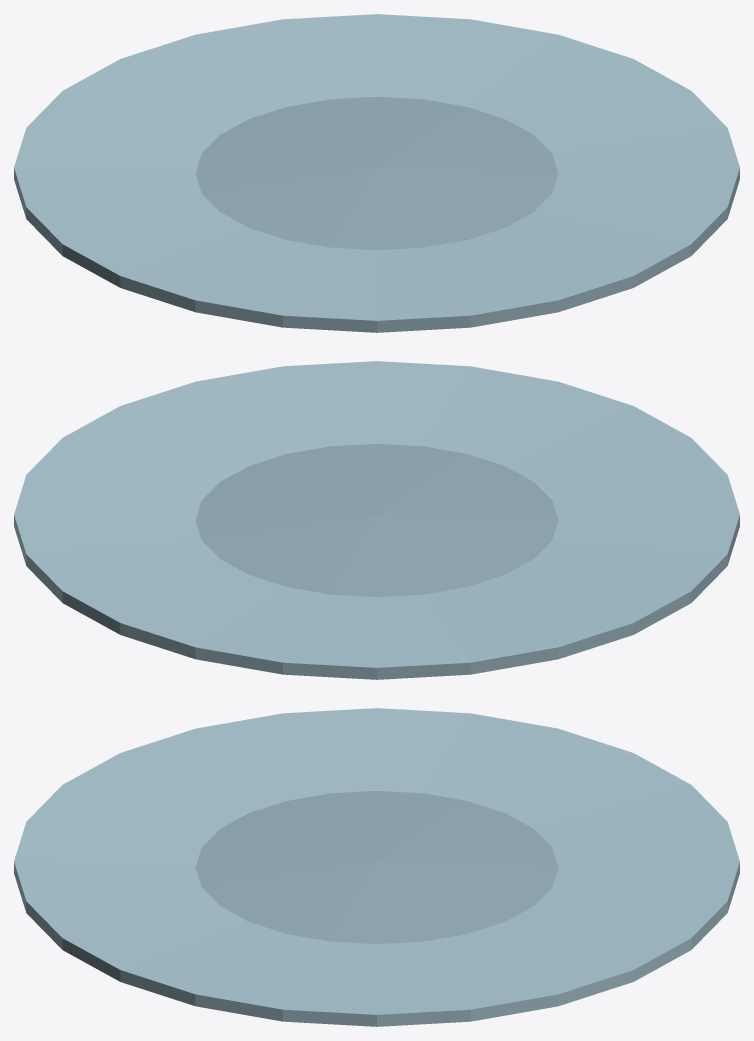
Rendered from disc_water_inner.gltf.
The picture shows the model from 3 angles, top to bottom: view 1: azimuth 30°, elevation 25°; view 2: azimuth 150°, elevation 25°; view 3: azimuth 270°, elevation 25°; orthographic projection.
Parts seen in each view (by area): view 1: mesh; view 2: mesh; view 3: mesh.
Part boxes in pixels (x1,y1,x2,y2): mesh: [14, 14, 739, 332]; mesh: [14, 361, 739, 679]; mesh: [14, 708, 739, 1026].
Bounding box in the file's own units: 4.4 × 0.08 × 4.4.
